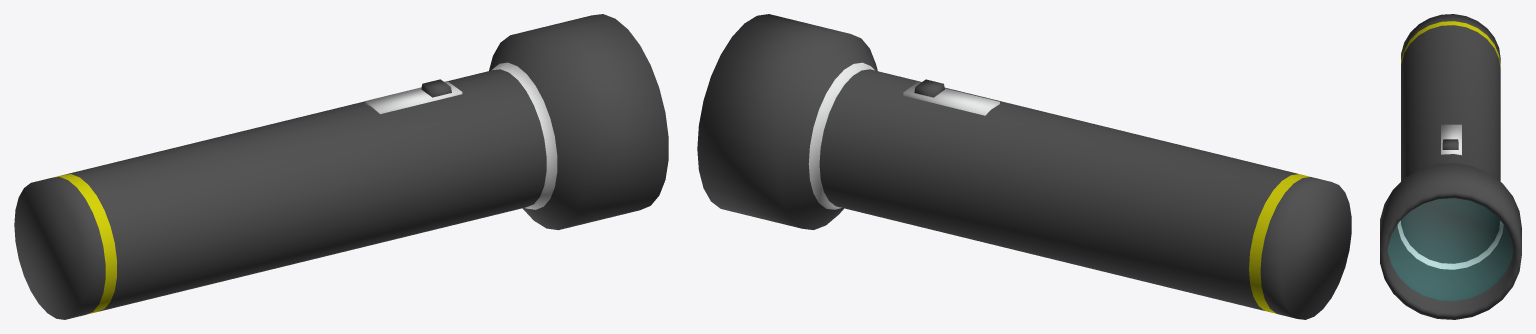
The model's file is Flashlight.fbx.
The picture shows the model from 3 angles, left to right: view 1: azimuth 30°, elevation 25°; view 2: azimuth 150°, elevation 25°; view 3: azimuth 270°, elevation 25°; orthographic projection. The views are drawn at different scales.
Parts seen in each view (by area): view 1: Object; view 2: Object; view 3: Object.
Part boxes in pixels (bbox=[...]): Object: bbox=[14, 14, 668, 319]; Object: bbox=[697, 14, 1351, 319]; Object: bbox=[1380, 14, 1521, 319].
Bounding box in the file's own units: 0.1393 × 0.0426 × 0.0425.
